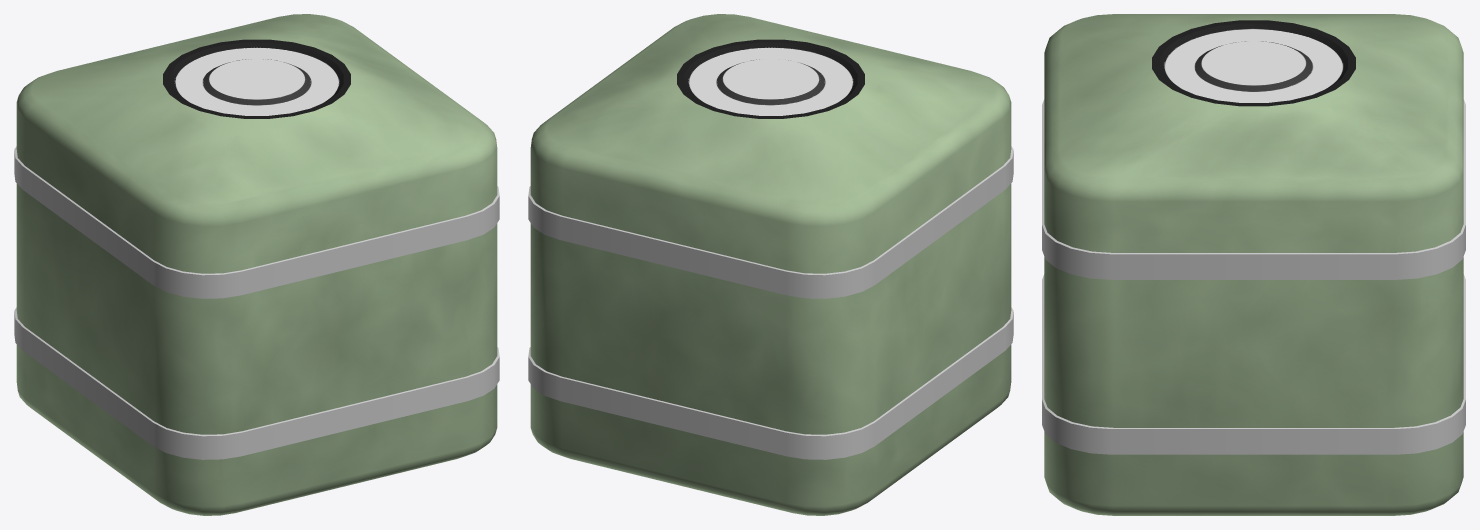
The model's file is hangar-extension-XL.fbx.
3 views of the same model, side by side, from view 1: azimuth 30°, elevation 25°; view 2: azimuth 150°, elevation 25°; view 3: azimuth 270°, elevation 25° (orthographic). The views are drawn at different scales.
Parts seen in each view (by area): view 1: hangar-extension-XL, stripe_001, stripe; view 2: hangar-extension-XL, stripe_001, stripe; view 3: hangar-extension-XL, stripe_001, stripe.
Boxes of the visible parts, x1,y1,x2,y2 form: hangar-extension-XL: [16, 14, 497, 515]; stripe_001: [14, 307, 499, 459]; stripe: [14, 146, 499, 298]; hangar-extension-XL: [530, 14, 1011, 515]; stripe_001: [528, 307, 1013, 459]; stripe: [528, 146, 1013, 298]; hangar-extension-XL: [1044, 14, 1463, 515]; stripe_001: [1042, 274, 1465, 454]; stripe: [1042, 99, 1465, 279].
Size of what is drawn, in the model's own units: 5.05 by 5.3 by 5.05.
Materials: 3 (1 with a texture image).
